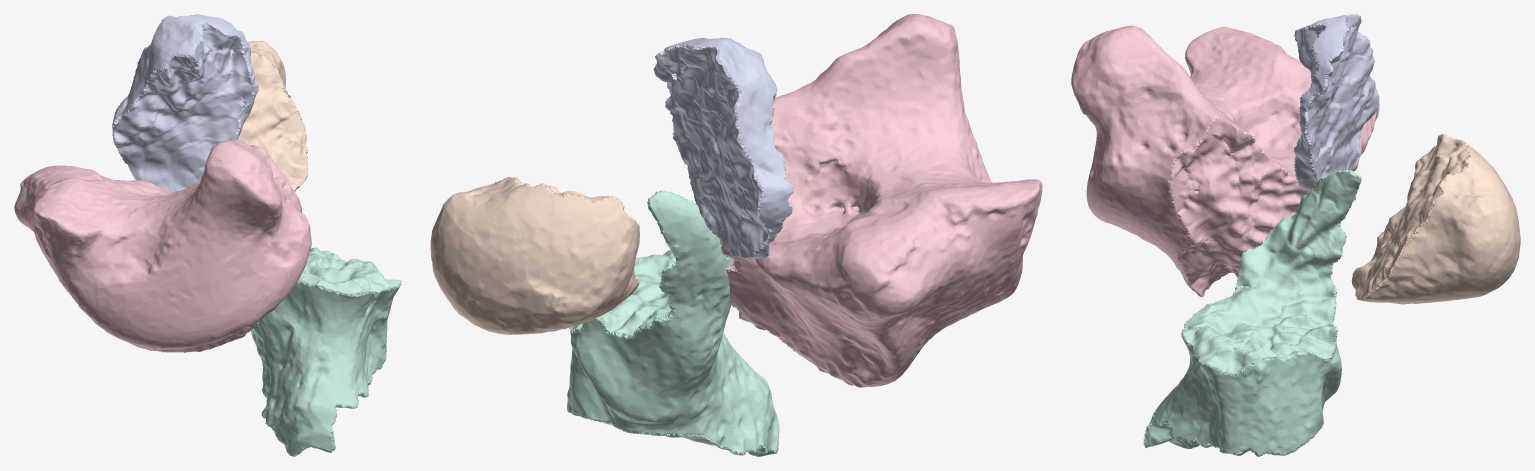
Rendered from AMNH_216242_Galago-crassicaudatus_Left-Ast_Smooth_colored.glb.
3 views of the same model, side by side, from view 1: azimuth 30°, elevation 25°; view 2: azimuth 150°, elevation 25°; view 3: azimuth 270°, elevation 25° (orthographic). The views are drawn at different scales.
Parts seen in each view (by area): view 1: world; view 2: world; view 3: world.
Boxes of the visible parts, x1=… form: world: x1=14, y1=14, x2=401, y2=456; world: x1=430, y1=14, x2=1042, y2=456; world: x1=1071, y1=14, x2=1520, y2=456.
Size of the model in its own units: 1.6 by 1.64 by 1.62.
